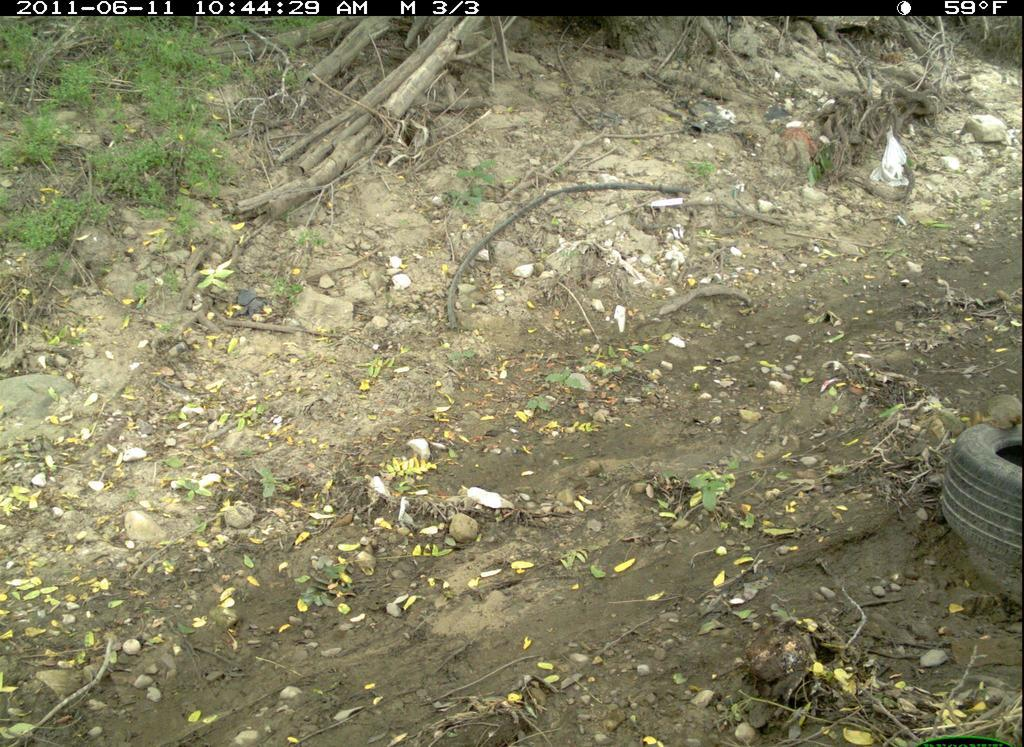squirrel: (984, 390, 1022, 434)
